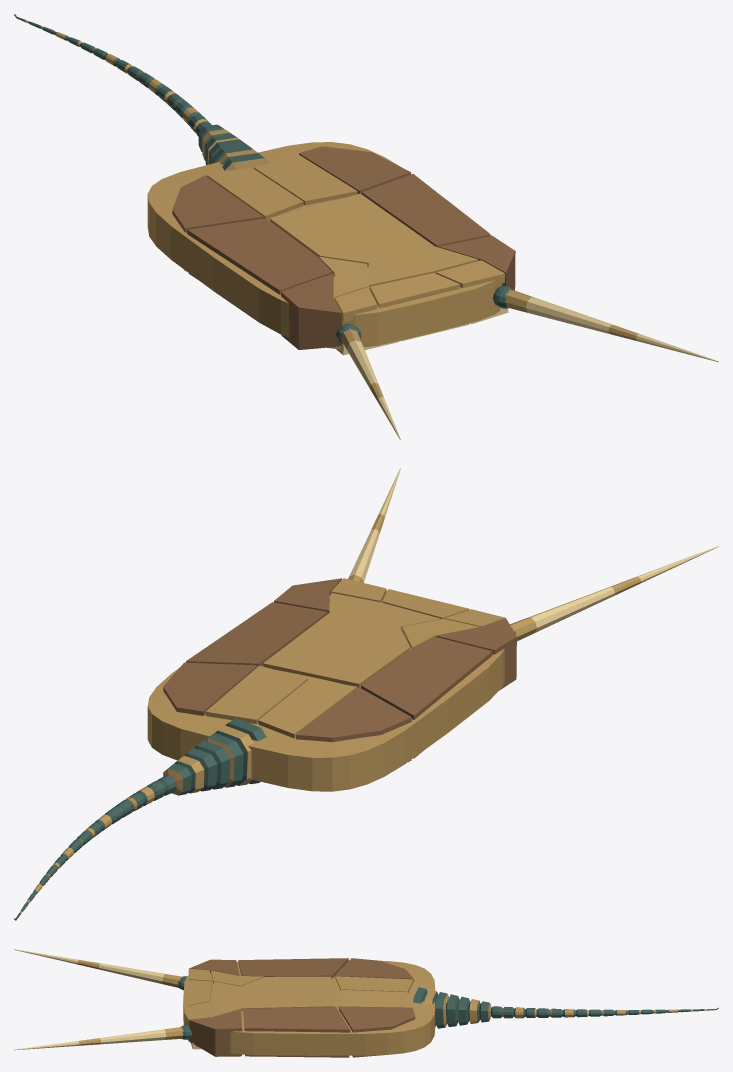
Rendered from placocystites.glb.
The picture shows the model from 3 angles, top to bottom: view 1: azimuth 30°, elevation 25°; view 2: azimuth 150°, elevation 25°; view 3: azimuth 270°, elevation 25°; orthographic projection. The views are drawn at different scales.
Visible parts, largest first — view 1: placocystites-original-organism; view 2: placocystites-original-organism; view 3: placocystites-original-organism.
Boxes of the visible parts, box(x1,y1,x2,y2) form: placocystites-original-organism: box(14, 14, 718, 439); placocystites-original-organism: box(14, 468, 718, 920); placocystites-original-organism: box(14, 949, 718, 1057).
Bounding box in the file's own units: 0.0236 × 0.00401 × 0.0698.
